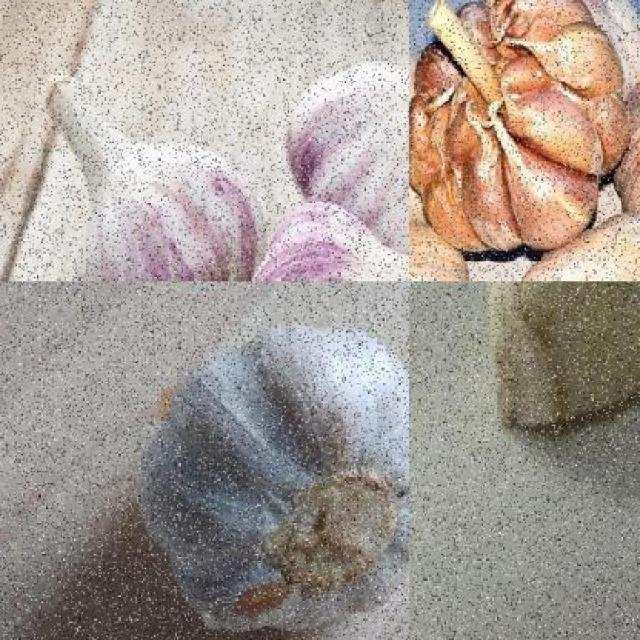garlic: (132, 323, 408, 640), (410, 0, 632, 254), (37, 67, 277, 281), (288, 0, 408, 271), (482, 280, 640, 434), (408, 44, 467, 230)
